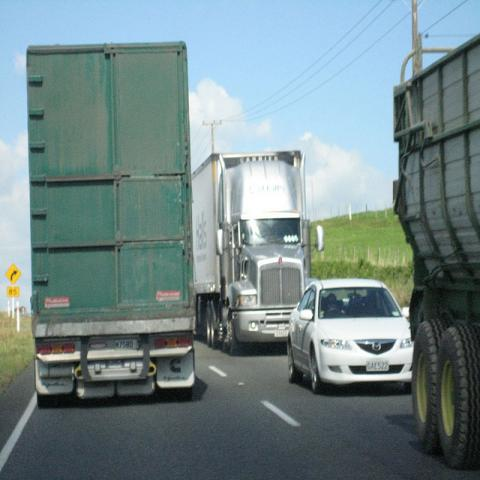car: (288, 278, 413, 395)
truck: (26, 42, 198, 402), (393, 34, 479, 470), (192, 153, 323, 358)
